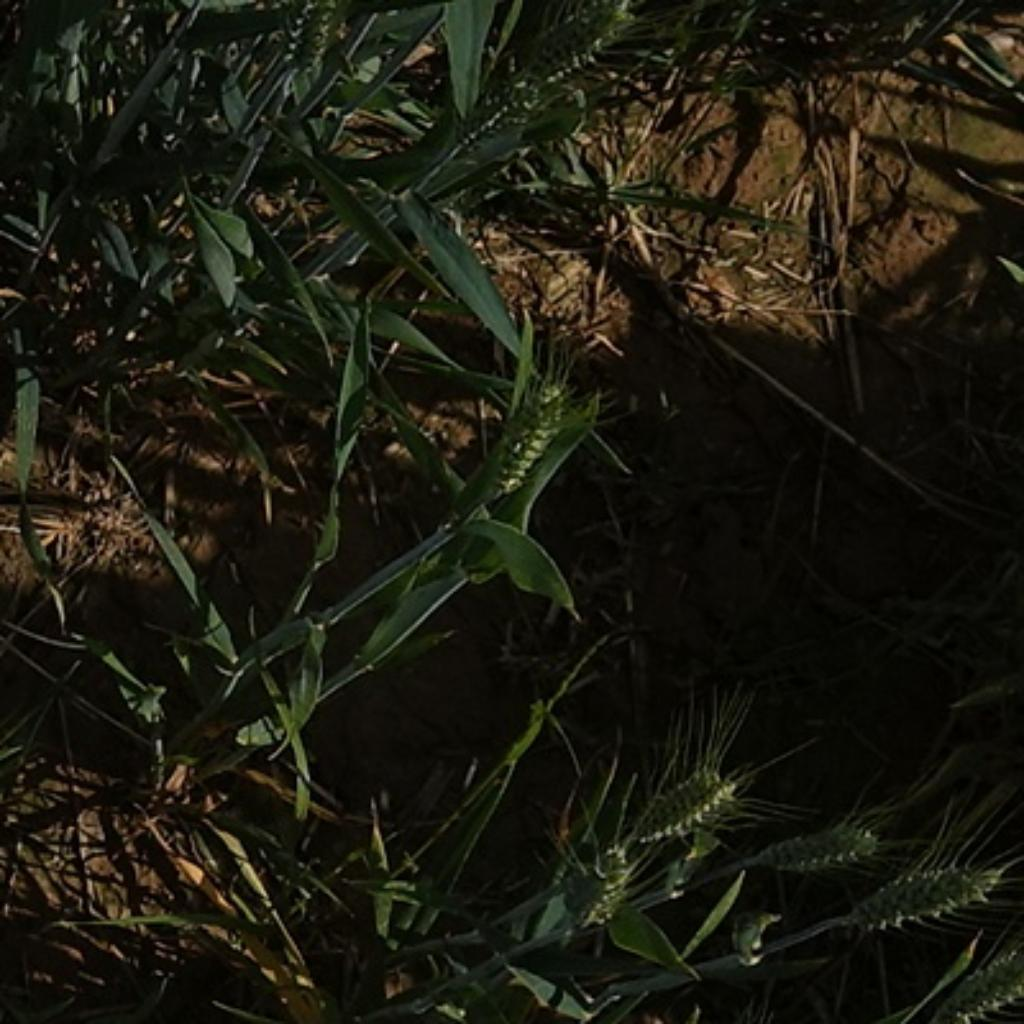0-0: (476, 355, 591, 501), (611, 744, 750, 852), (513, 1, 645, 94), (869, 840, 1011, 919), (540, 826, 645, 926), (747, 814, 888, 878), (451, 73, 543, 167), (932, 953, 1024, 1024), (271, 2, 337, 92)
